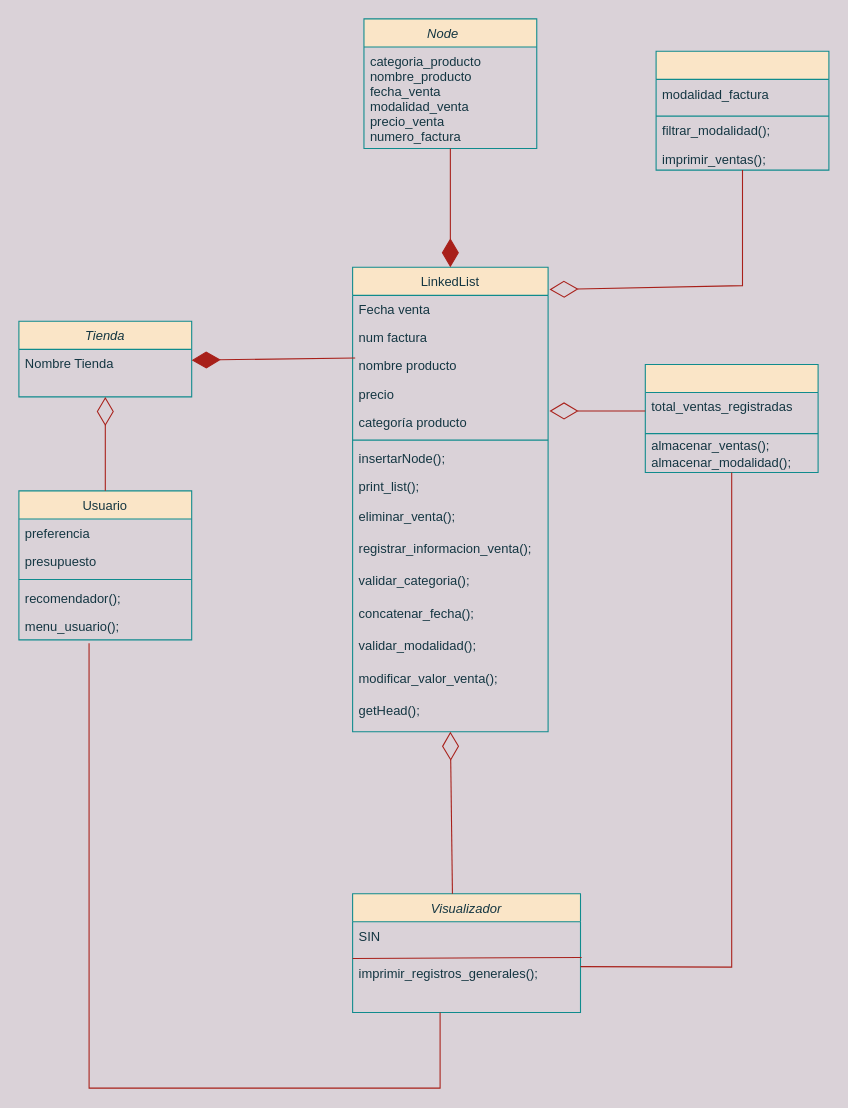
Image size: 848x1108. Some labels were removed from this diagram. Each missing label, with the box of its shape:
Filtro: (655, 50, 829, 170)
Registro: (644, 363, 818, 473)
